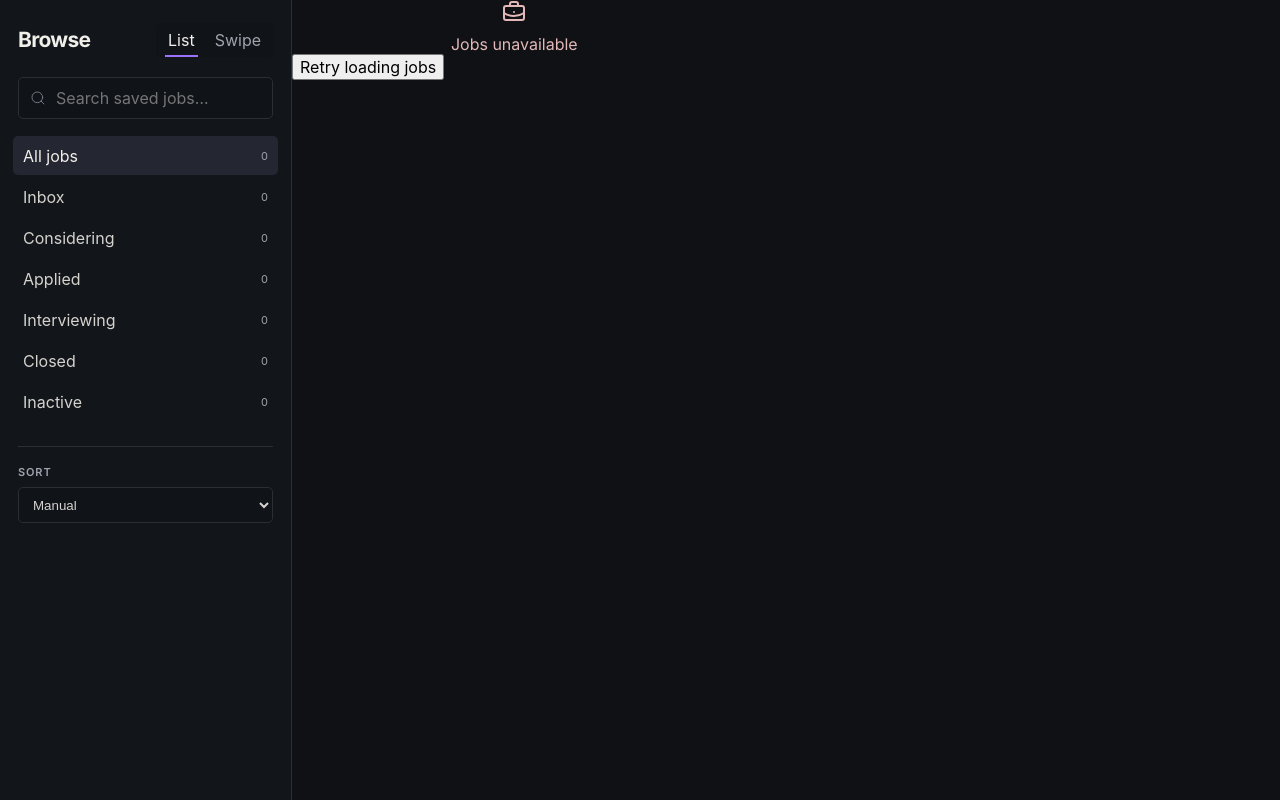
a failed initial Browse load offers retry and recovers in place
Expected: the text "Jobs unavailable" is shown, [451, 34, 578, 54]
Click the button "Retry loading jobs": (368, 67) [292, 54, 444, 80]
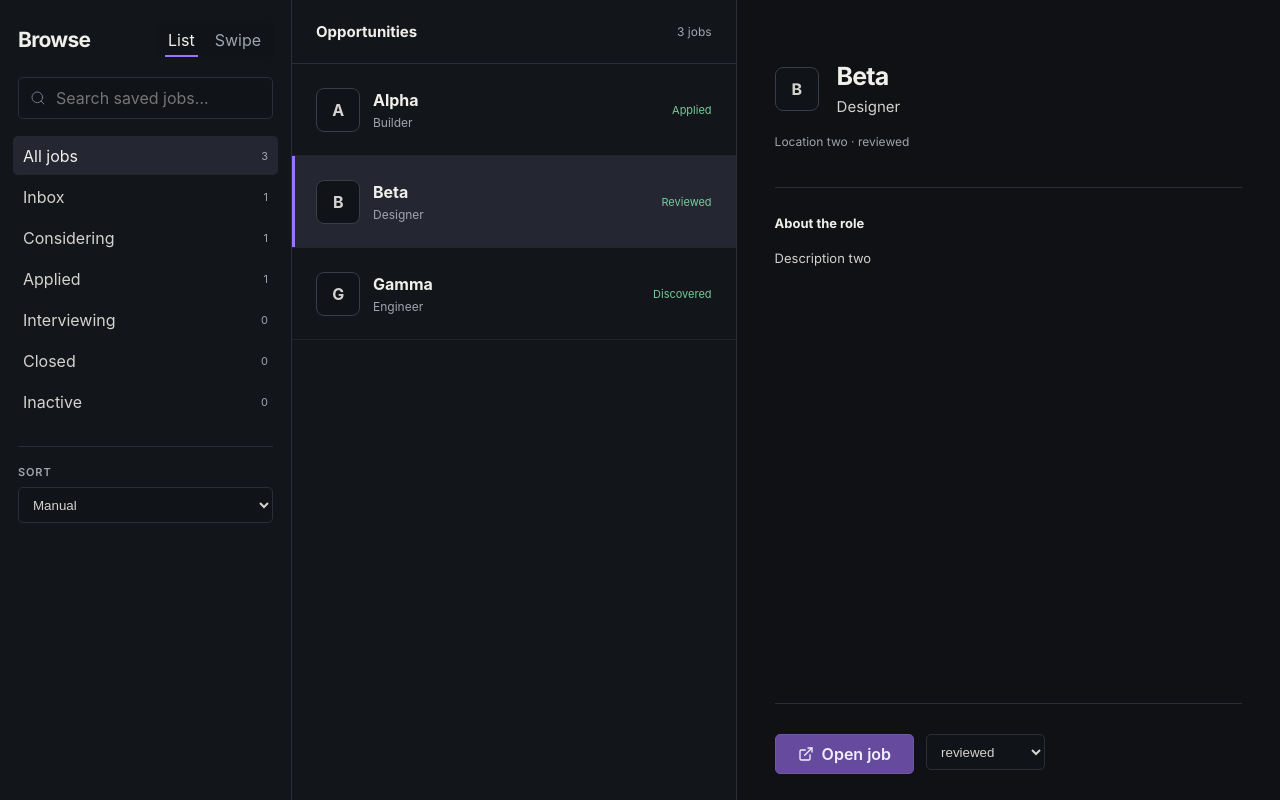
Expected: the text "Description two" is shown, [775, 251, 871, 267]
Expected: the text "Jobs unavailable" is gone
